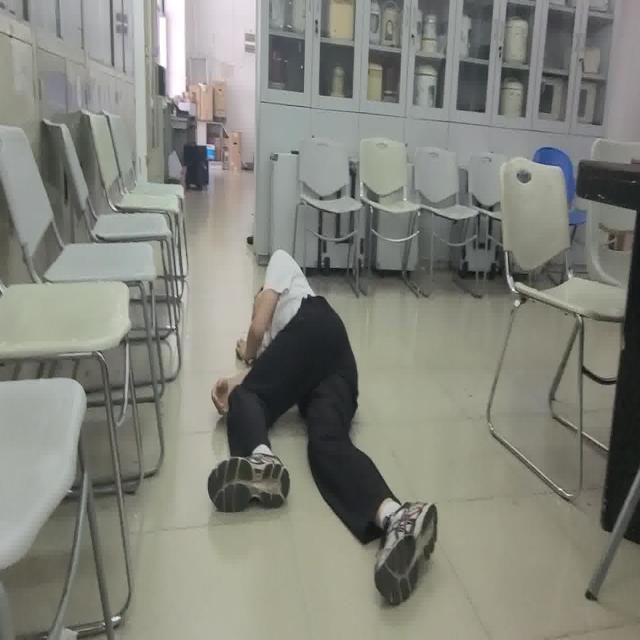Fall-Detected: (209, 246, 440, 608)
